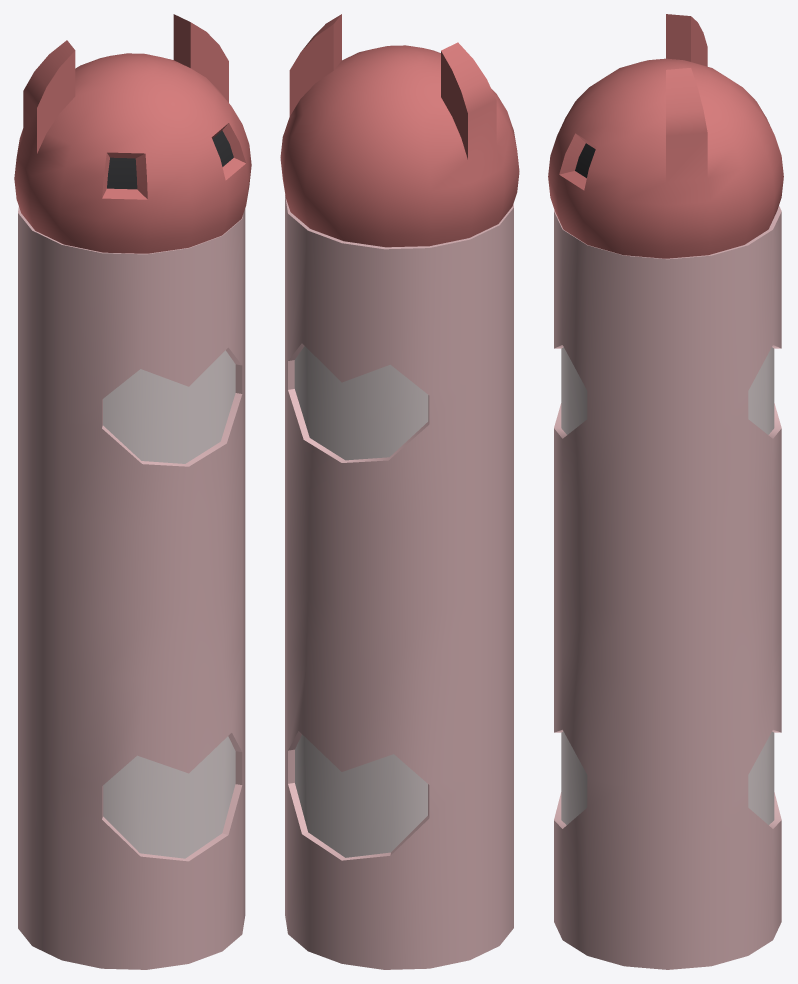
Rendered from watchtower.fbx.
The picture shows the model from 3 angles, left to right: view 1: azimuth 30°, elevation 25°; view 2: azimuth 150°, elevation 25°; view 3: azimuth 270°, elevation 25°; orthographic projection.
Visible parts, largest first — view 1: watchtower, cat; view 2: watchtower, cat; view 3: watchtower, cat.
Boxes of the visible parts, x1=… form: watchtower: x1=18, y1=206, x2=245, y2=969; cat: x1=14, y1=14, x2=251, y2=253; watchtower: x1=285, y1=194, x2=513, y2=969; cat: x1=280, y1=14, x2=519, y2=247; watchtower: x1=554, y1=206, x2=781, y2=969; cat: x1=548, y1=14, x2=783, y2=258.
Size of the model in its own units: 3.33 by 13.56 by 3.29.
